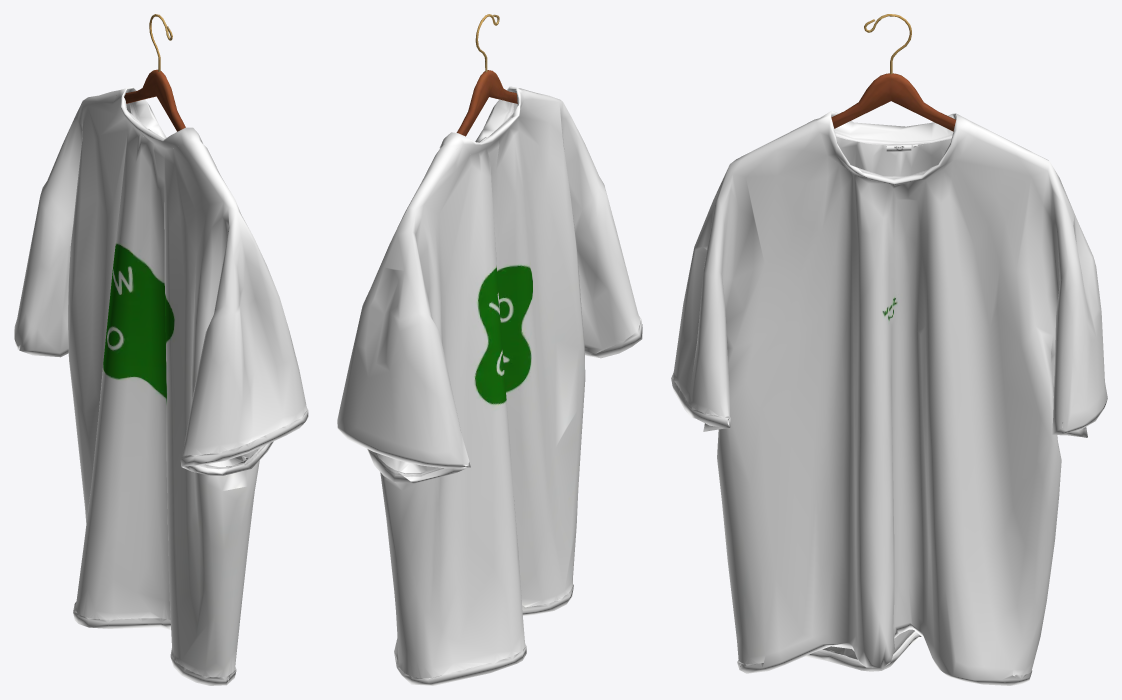
The model's file is 37_Hanger1-transformed.glb.
The picture shows the model from 3 angles, left to right: view 1: azimuth 30°, elevation 25°; view 2: azimuth 150°, elevation 25°; view 3: azimuth 270°, elevation 25°; orthographic projection. The views are drawn at different scales.
Parts seen in each view (by area): view 1: Hanger; view 2: Hanger; view 3: Hanger.
Part boxes in pixels (bbox=[...]): Hanger: bbox=[14, 14, 308, 685]; Hanger: bbox=[337, 14, 642, 685]; Hanger: bbox=[671, 14, 1107, 685].
Bounding box in the file's own units: 0.2048 × 0.8857 × 0.53.
Materials: 5 (5 with a texture image).
